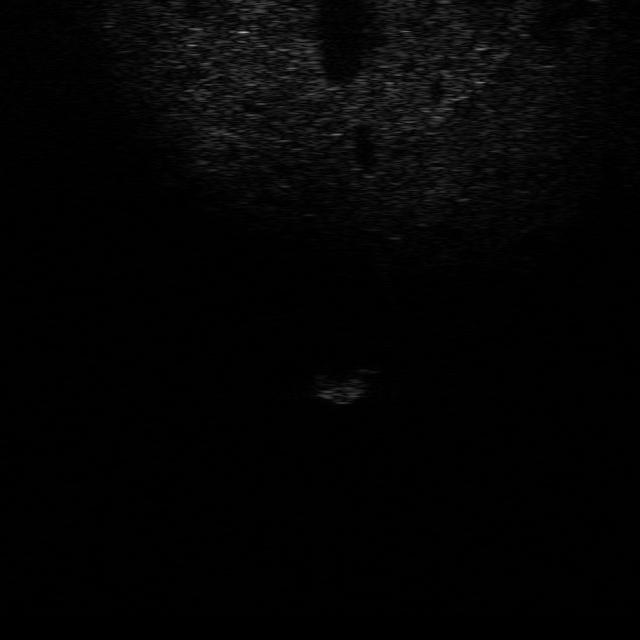cube: (310, 369, 368, 405)
